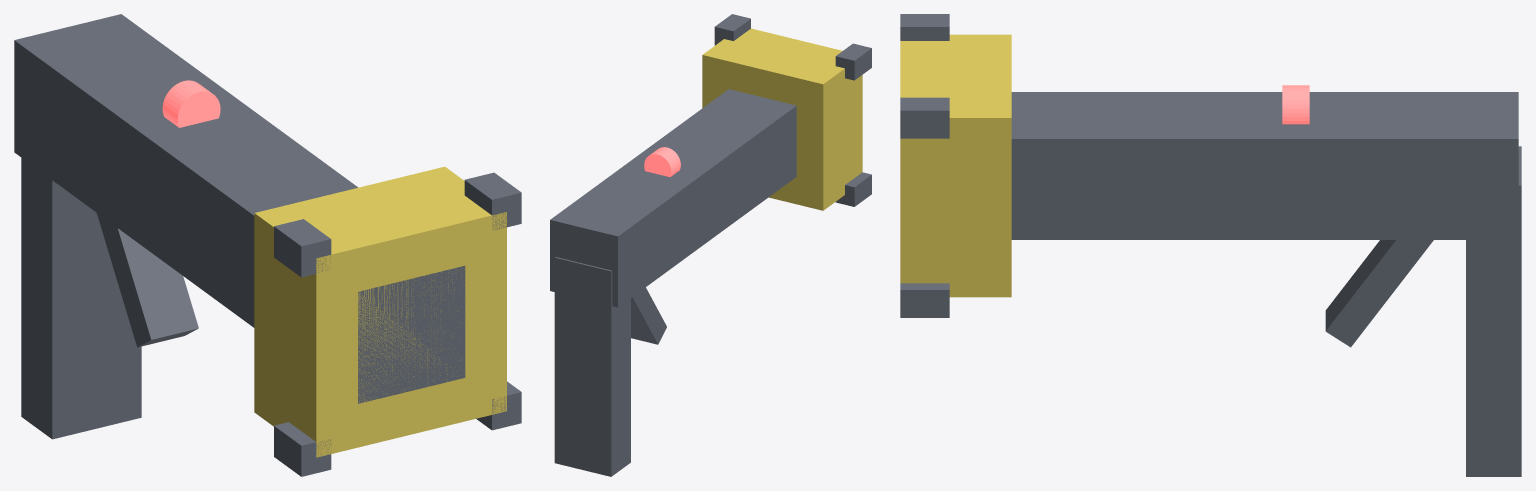
File: bunker_arch_pillar.glb
The picture shows the model from 3 angles, left to right: view 1: azimuth 30°, elevation 25°; view 2: azimuth 150°, elevation 25°; view 3: azimuth 270°, elevation 25°; orthographic projection. The views are drawn at different scales.
Parts seen in each view (by area): view 1: Column, Base, OverheadTruss, DiagonalBrace, Cube.002, Cube.003, Cube, Lamp, Cube.001; view 2: Column, Base, OverheadTruss, DiagonalBrace, Cube.002, Lamp, Cube, Cube.003; view 3: Column, Base, OverheadTruss, DiagonalBrace, Cube.003, Cube.001, Cube.002, Lamp.
Part boxes in pixels (bbox=[...]): Column: bbox=[14, 14, 465, 403]; Base: bbox=[254, 166, 506, 457]; OverheadTruss: bbox=[21, 158, 141, 439]; DiagonalBrace: bbox=[97, 213, 198, 347]; Cube.002: bbox=[274, 219, 331, 277]; Cube.003: bbox=[464, 172, 521, 230]; Cube: bbox=[274, 422, 331, 476]; Lamp: bbox=[162, 80, 220, 127]; Cube.001: bbox=[476, 381, 521, 430]; Column: bbox=[550, 89, 796, 307]; Base: bbox=[702, 28, 862, 210]; OverheadTruss: bbox=[554, 257, 630, 476]; DiagonalBrace: bbox=[631, 287, 666, 344]; Cube.002: bbox=[835, 43, 871, 80]; Lamp: bbox=[644, 147, 680, 176]; Cube: bbox=[835, 172, 871, 206]; Cube.003: bbox=[714, 14, 750, 45]; Column: bbox=[1011, 92, 1518, 239]; Base: bbox=[900, 34, 1011, 297]; OverheadTruss: bbox=[1466, 146, 1521, 476]; DiagonalBrace: bbox=[1325, 240, 1433, 347]; Cube.003: bbox=[900, 97, 949, 138]; Cube.001: bbox=[900, 283, 949, 317]; Cube.002: bbox=[900, 14, 949, 40]; Lamp: bbox=[1282, 85, 1309, 124].
Bounding box in the file's own units: 1.85 × 3.52 × 5.03.
